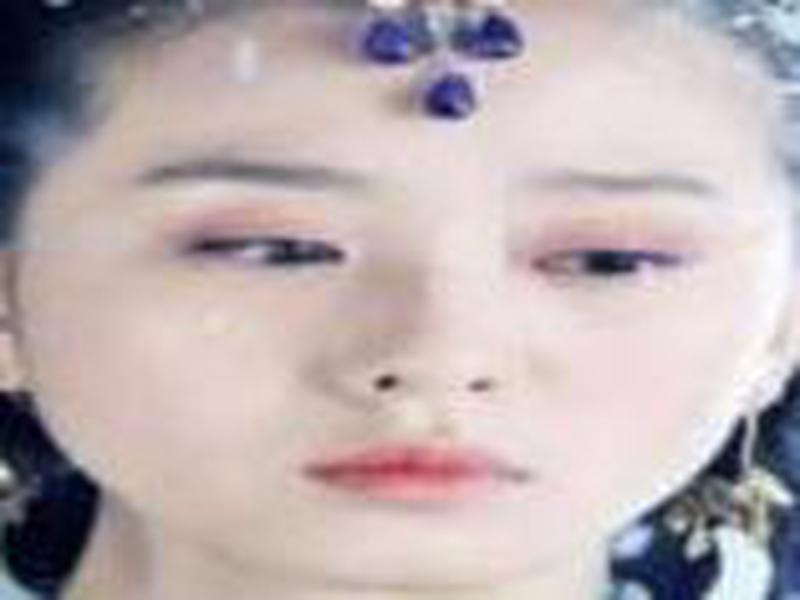without_mask: (31, 14, 780, 589)
